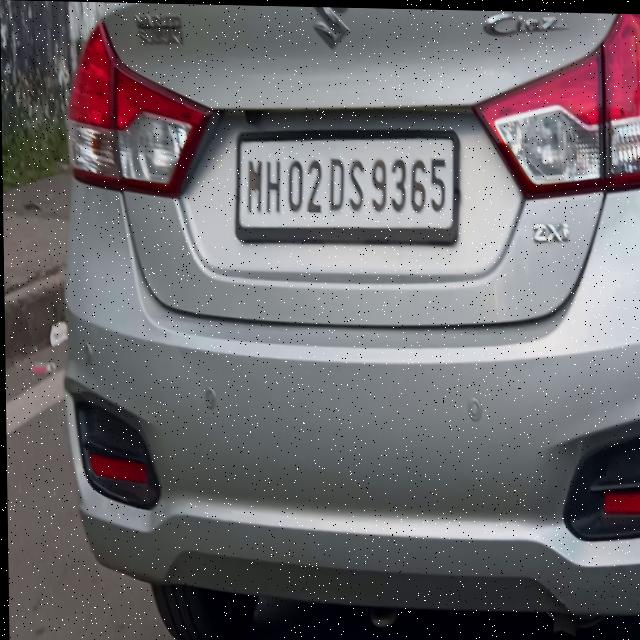plate: (231, 124, 472, 253)
